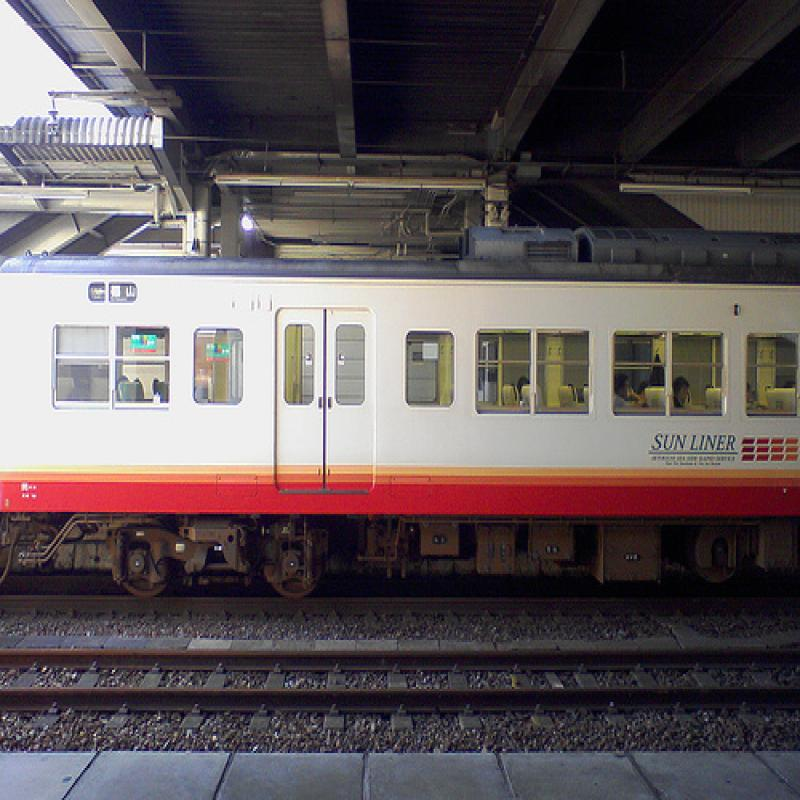train: (2, 227, 800, 604)
